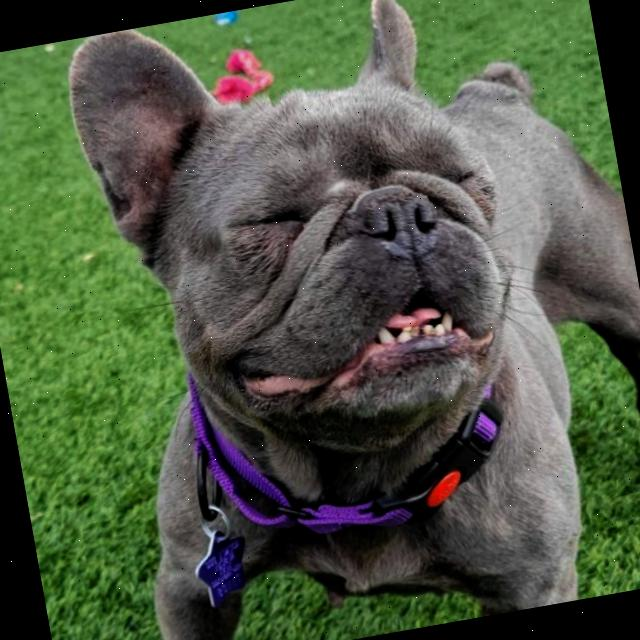french_bulldog_dog: (46, 0, 549, 508)
